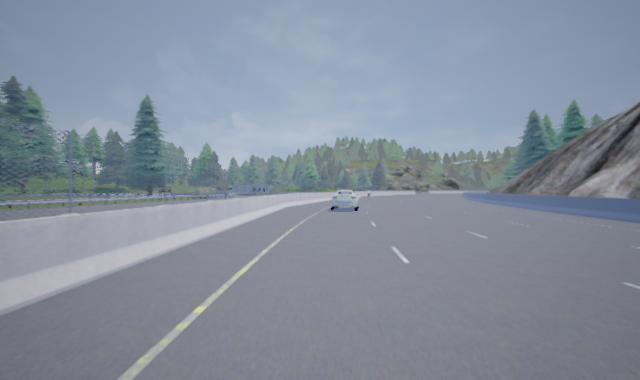vehicle: (329, 189, 359, 211)
